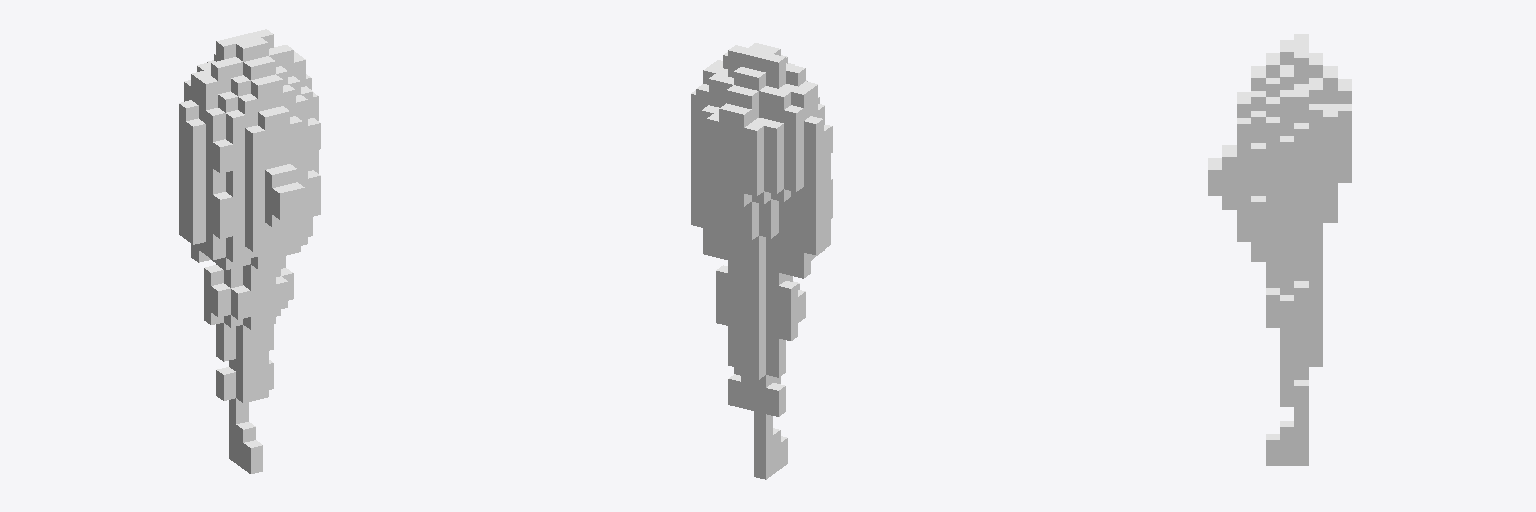
The model's file is Player-Body.obj.
The picture shows the model from 3 angles: view 1: azimuth 30°, elevation 25°; view 2: azimuth 150°, elevation 25°; view 3: azimuth 270°, elevation 25°; orthographic projection.
Parts seen in each view (by area): view 1: Body; view 2: Body; view 3: Body.
Part boxes in pixels (x1,y1,x2,y2): Body: (179,29,320,473); Body: (691,43,832,479); Body: (1208,34,1351,465).
Size of the model in its own units: 10 by 32 by 10.